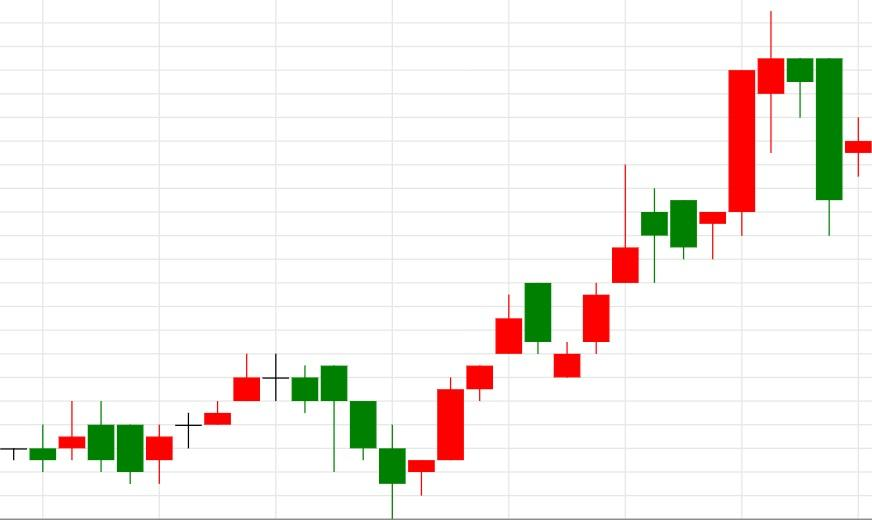evening_star_fall: (116, 353, 320, 484)
three_black_crows_fall: (116, 353, 406, 520)
